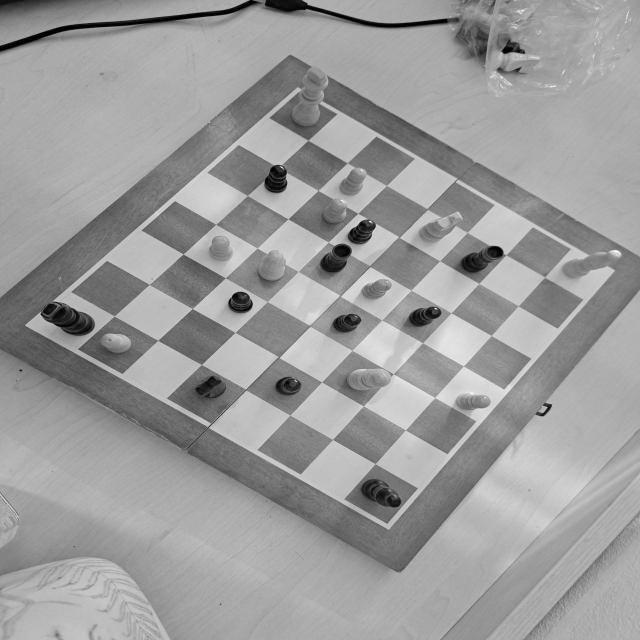chess-table-corners: (284, 84, 314, 102), (598, 263, 624, 280), (376, 516, 398, 530), (23, 318, 45, 332)
